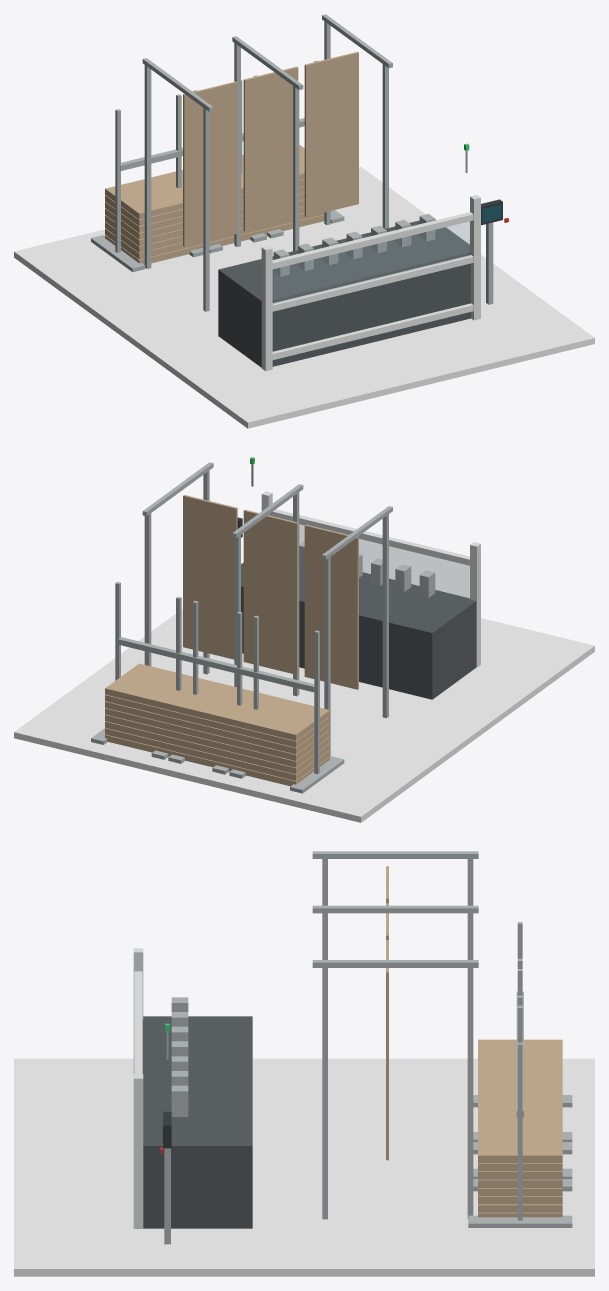
The picture shows the model from 3 angles, top to bottom: view 1: azimuth 30°, elevation 25°; view 2: azimuth 150°, elevation 25°; view 3: azimuth 270°, elevation 25°; orthographic projection. The views are drawn at different scales.
Parts seen in each view (by area): view 1: Factory floor, Nextpro lower cabinet, Hanging fanfold web.002, Hanging fanfold web.001, Hanging fanfold web, Nextpro front window, Fanfold stacked corrugate.007, Nextpro cross beam.002, Nextpro cross beam, Nextpro cross beam.001, Fanfold loading upright, Nextpro front column (+12 smaller); view 2: Factory floor, Nextpro lower cabinet, Hanging fanfold web.001, Hanging fanfold web.002, Hanging fanfold web, Fanfold stacked corrugate.007, Nextpro front window, Fanfold stacked corrugate.023, Fanfold stacked corrugate.015, Nextpro cross beam.002, Fanfold guide upright, Fanfold loading upright.002 (+29 smaller); view 3: Factory floor, Nextpro lower cabinet, Fanfold stacked corrugate.023, Fanfold stacked corrugate.007, Fanfold stacked corrugate.015, Fanfold loading upright.002, Nextpro front column.001, Fanfold guide upright.002, Overhead frame.001, Overhead frame, Overhead frame.002, Material rack foot.005 (+12 smaller).
Boxes of the visible parts, x1,y1,x2,y2 form: Factory floor: [14, 167, 594, 428]; Nextpro lower cabinet: [218, 219, 470, 367]; Hanging fanfold web.002: [304, 51, 358, 216]; Hanging fanfold web.001: [243, 66, 298, 231]; Hanging fanfold web: [183, 81, 237, 246]; Nextpro front window: [273, 221, 469, 303]; Fanfold stacked corrugate.007: [105, 172, 182, 219]; Nextpro cross beam.002: [272, 212, 473, 269]; Nextpro cross beam: [272, 303, 473, 359]; Nextpro cross beam.001: [272, 255, 473, 311]; Fanfold loading upright: [144, 62, 151, 268]; Nextpro front column: [261, 245, 272, 371]; Factory floor: [14, 609, 594, 822]; Nextpro lower cabinet: [241, 562, 476, 699]; Hanging fanfold web.001: [243, 509, 298, 674]; Hanging fanfold web.002: [183, 495, 237, 659]; Hanging fanfold web: [304, 524, 358, 689]; Fanfold stacked corrugate.007: [226, 693, 329, 740]; Nextpro front window: [299, 524, 469, 597]; Fanfold stacked corrugate.023: [105, 663, 207, 710]; Fanfold stacked corrugate.015: [166, 678, 262, 725]; Nextpro cross beam.002: [269, 509, 469, 565]; Fanfold guide upright: [382, 514, 388, 718]; Fanfold loading upright.002: [144, 510, 151, 666]; Factory floor: [14, 1058, 594, 1276]; Nextpro lower cabinet: [142, 1016, 252, 1228]; Fanfold stacked corrugate.023: [478, 1113, 562, 1162]; Fanfold stacked corrugate.007: [478, 1039, 562, 1081]; Fanfold stacked corrugate.015: [478, 1082, 562, 1113]; Fanfold loading upright.002: [467, 963, 473, 1218]; Nextpro front column.001: [133, 1074, 143, 1228]; Fanfold guide upright.002: [322, 963, 327, 1219]; Overhead frame.001: [312, 905, 478, 913]; Overhead frame: [312, 851, 478, 858]; Overhead frame.002: [312, 960, 478, 967]; Material rack foot.005: [468, 1215, 572, 1227].
Bounding box in the file's own units: 6 × 3.52 × 7.
